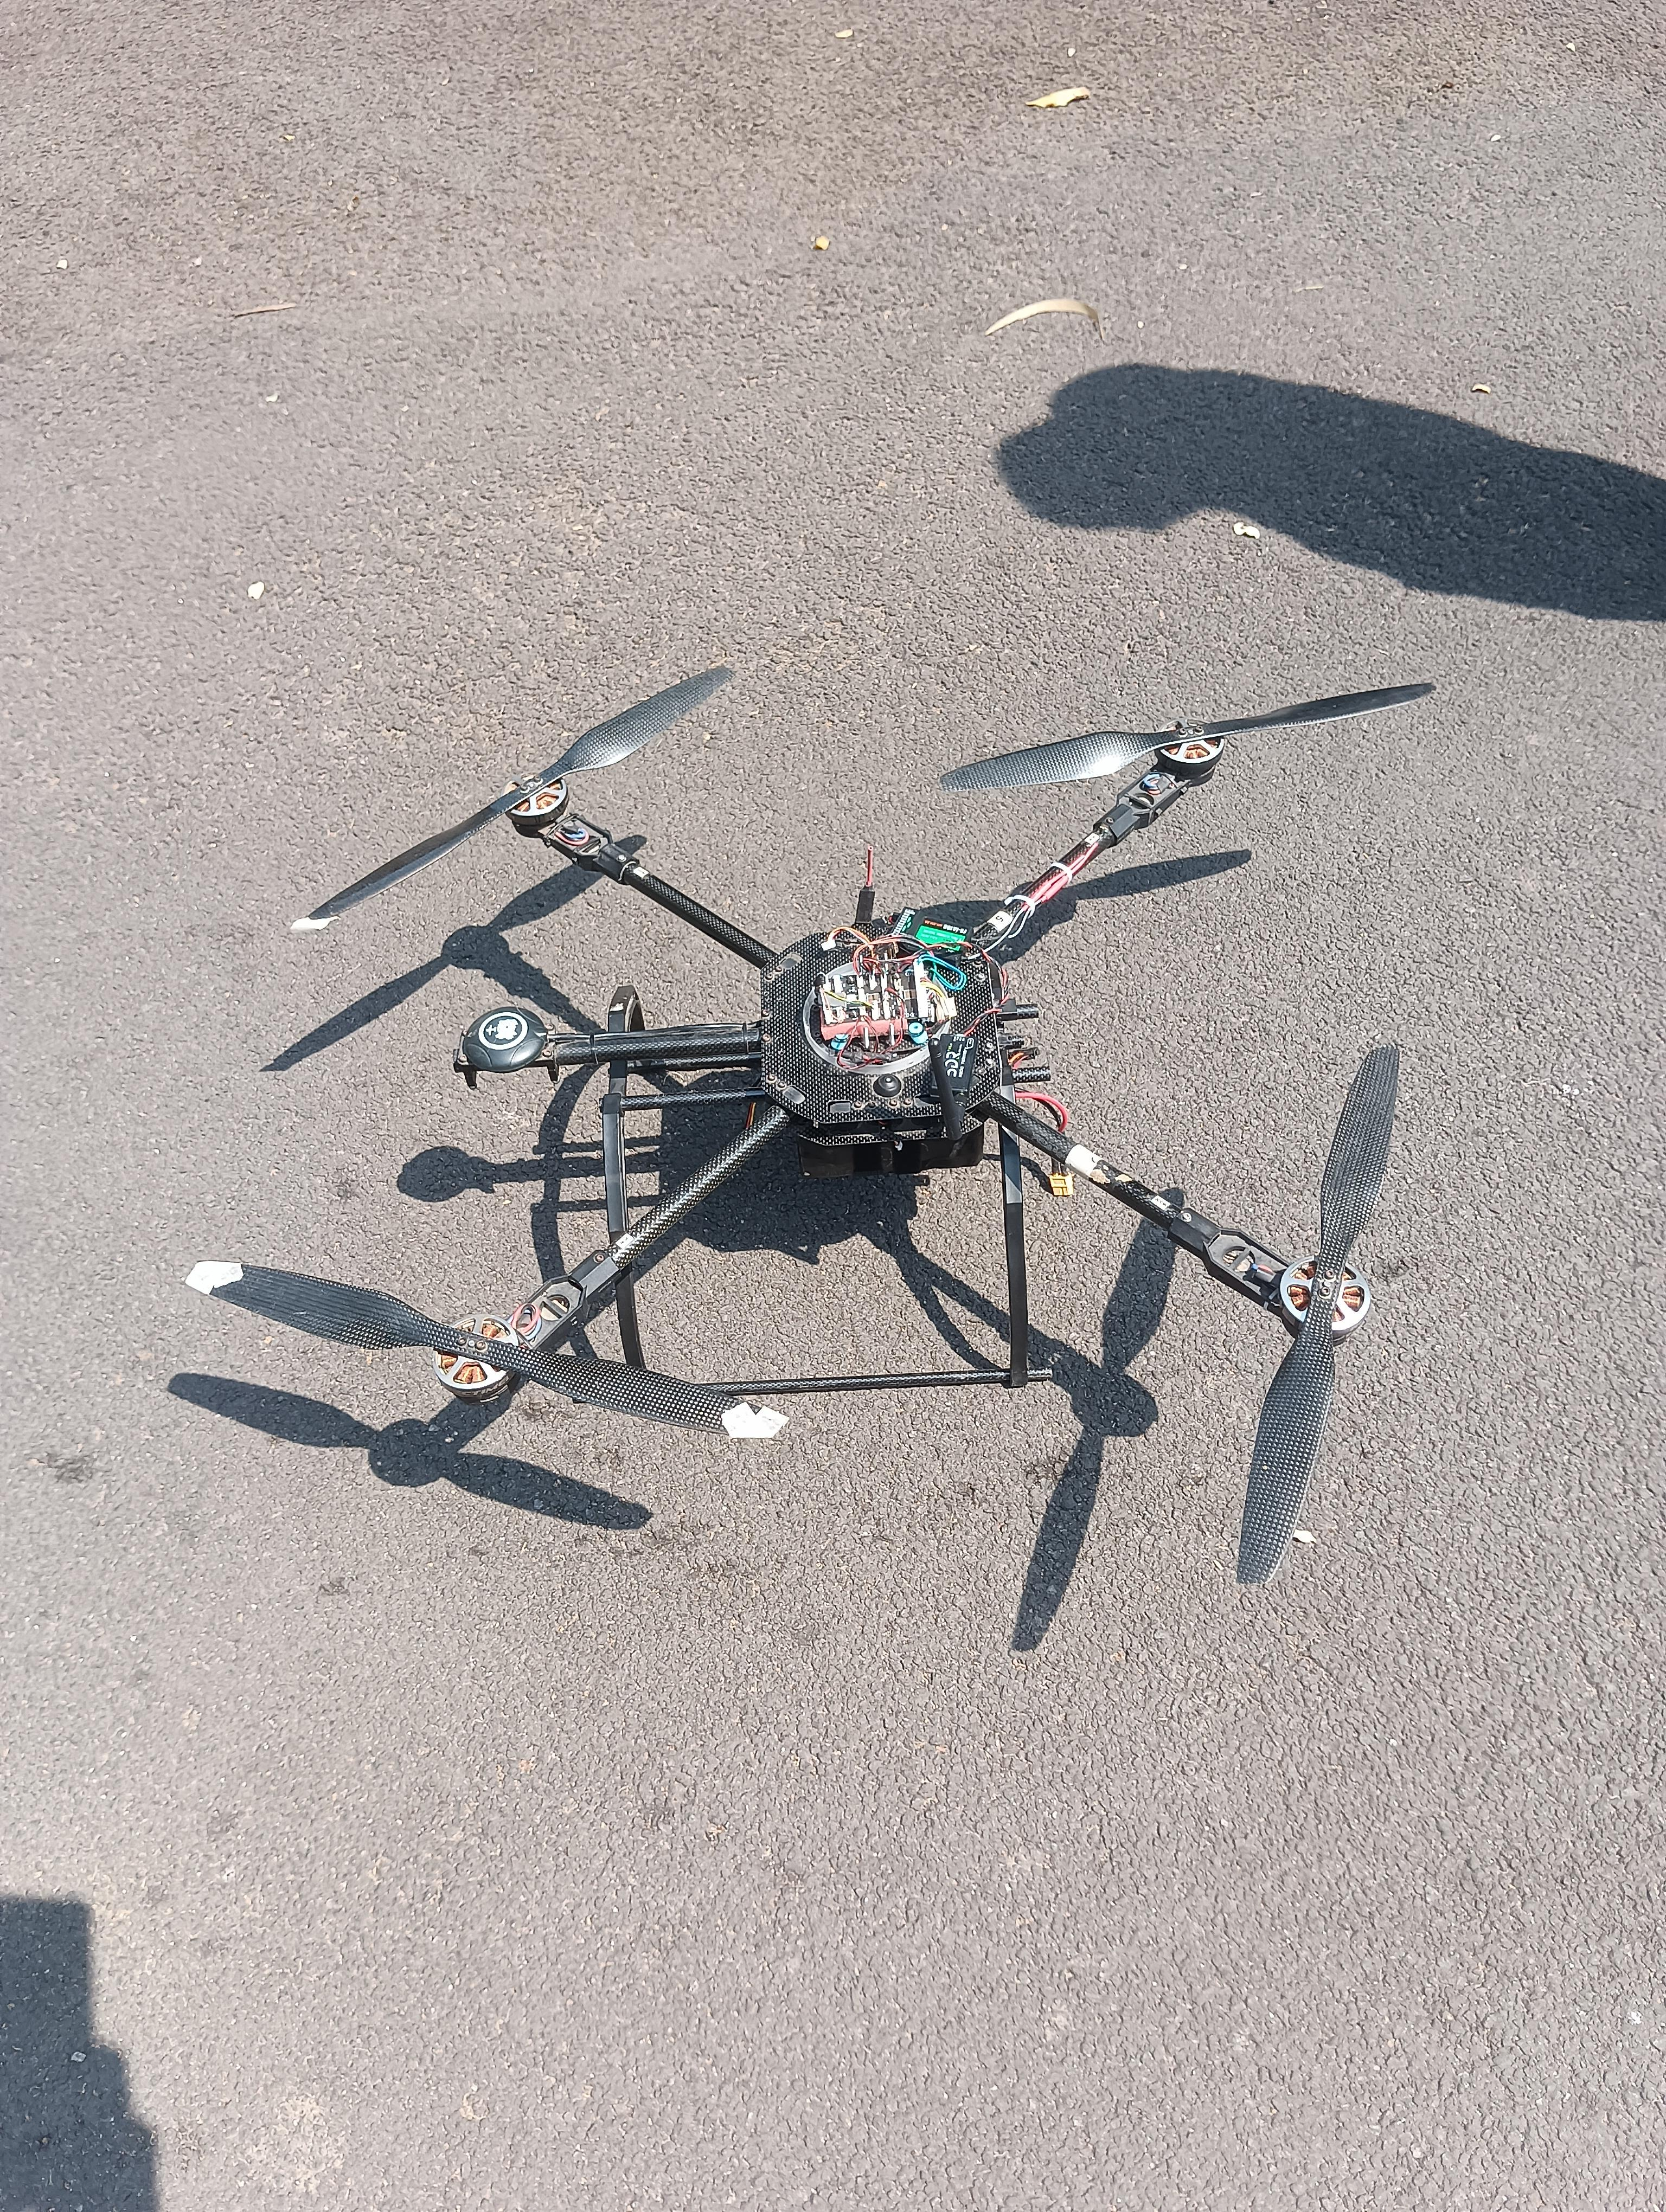drone: (161, 598, 1489, 1582)
